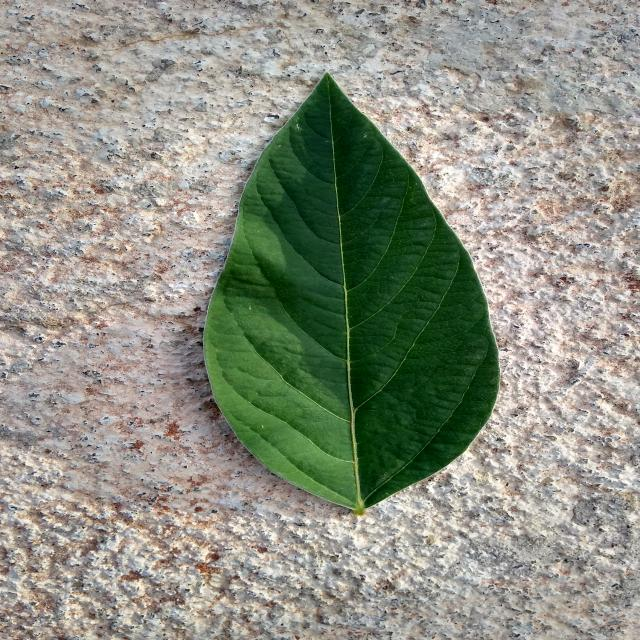pea: (204, 75, 500, 515)
